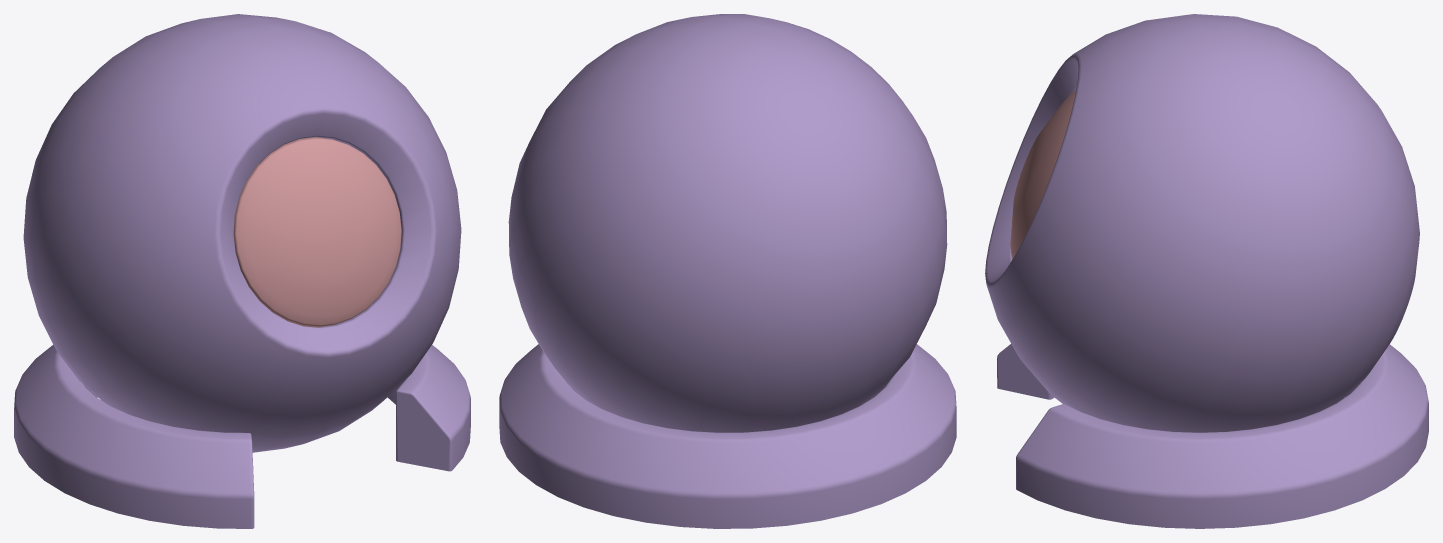
Rendered from Material_ball.FBX.
The picture shows the model from 3 angles, left to right: view 1: azimuth 30°, elevation 25°; view 2: azimuth 150°, elevation 25°; view 3: azimuth 270°, elevation 25°; orthographic projection.
Parts seen in each view (by area): view 1: Ball Basement; view 2: Ball Basement; view 3: Ball Basement.
Part boxes in pixels (x1,y1,x2,y2): Ball Basement: (14,14,470,528); Ball Basement: (499,14,956,528); Ball Basement: (985,14,1428,528).
Bounding box in the file's own units: 93.62 × 90 × 90.75.
